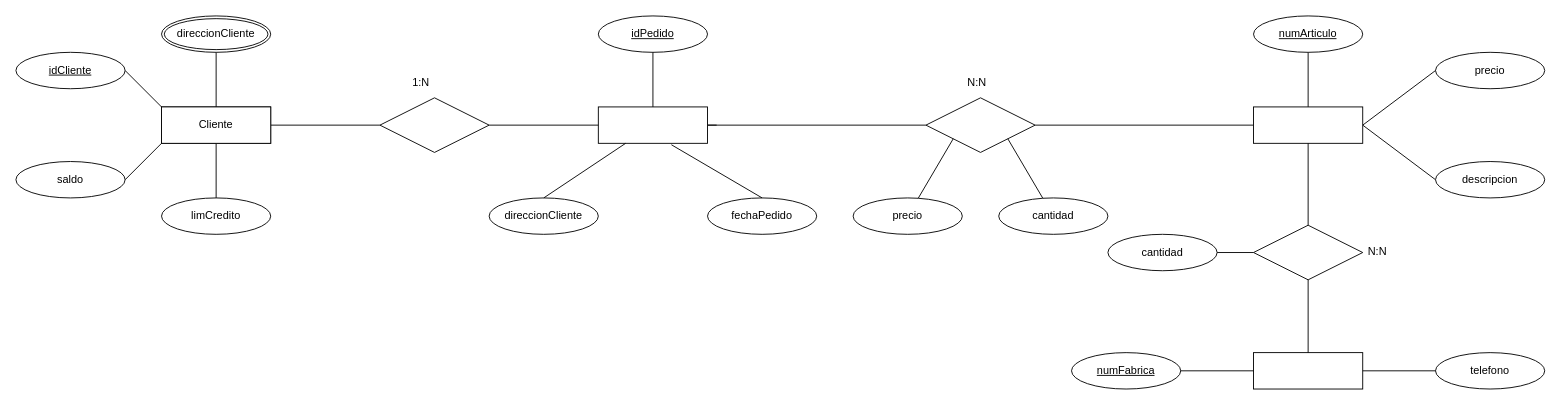
The diagram is 1561 pixels wide and 405 high, and some of its shapes have lost their labels. Here are the shapes that lost their labels. From the top down, the centre of each, then its label:
the point at 434,124: Hace
the point at 652,124: Pedido
the point at 980,124: Tiene
the point at 1308,124: Articulo
the point at 1308,252: Fabrica
the point at 1308,370: Fábrica
